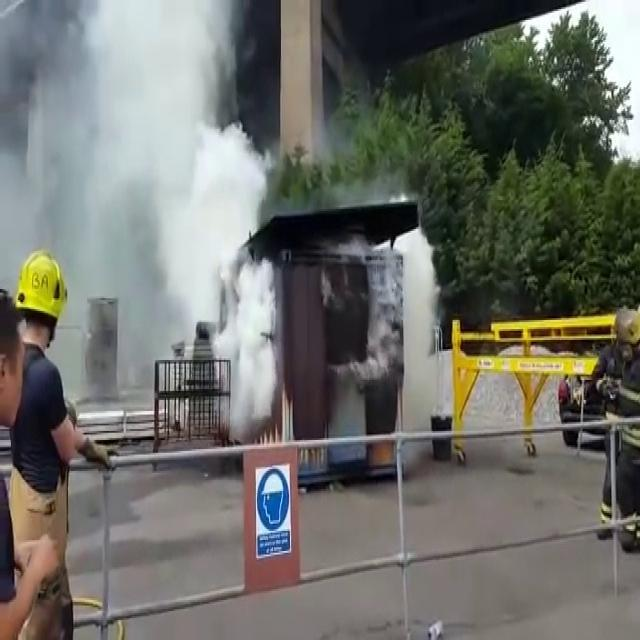Smoke: (86, 6, 273, 393), (387, 228, 435, 451)
